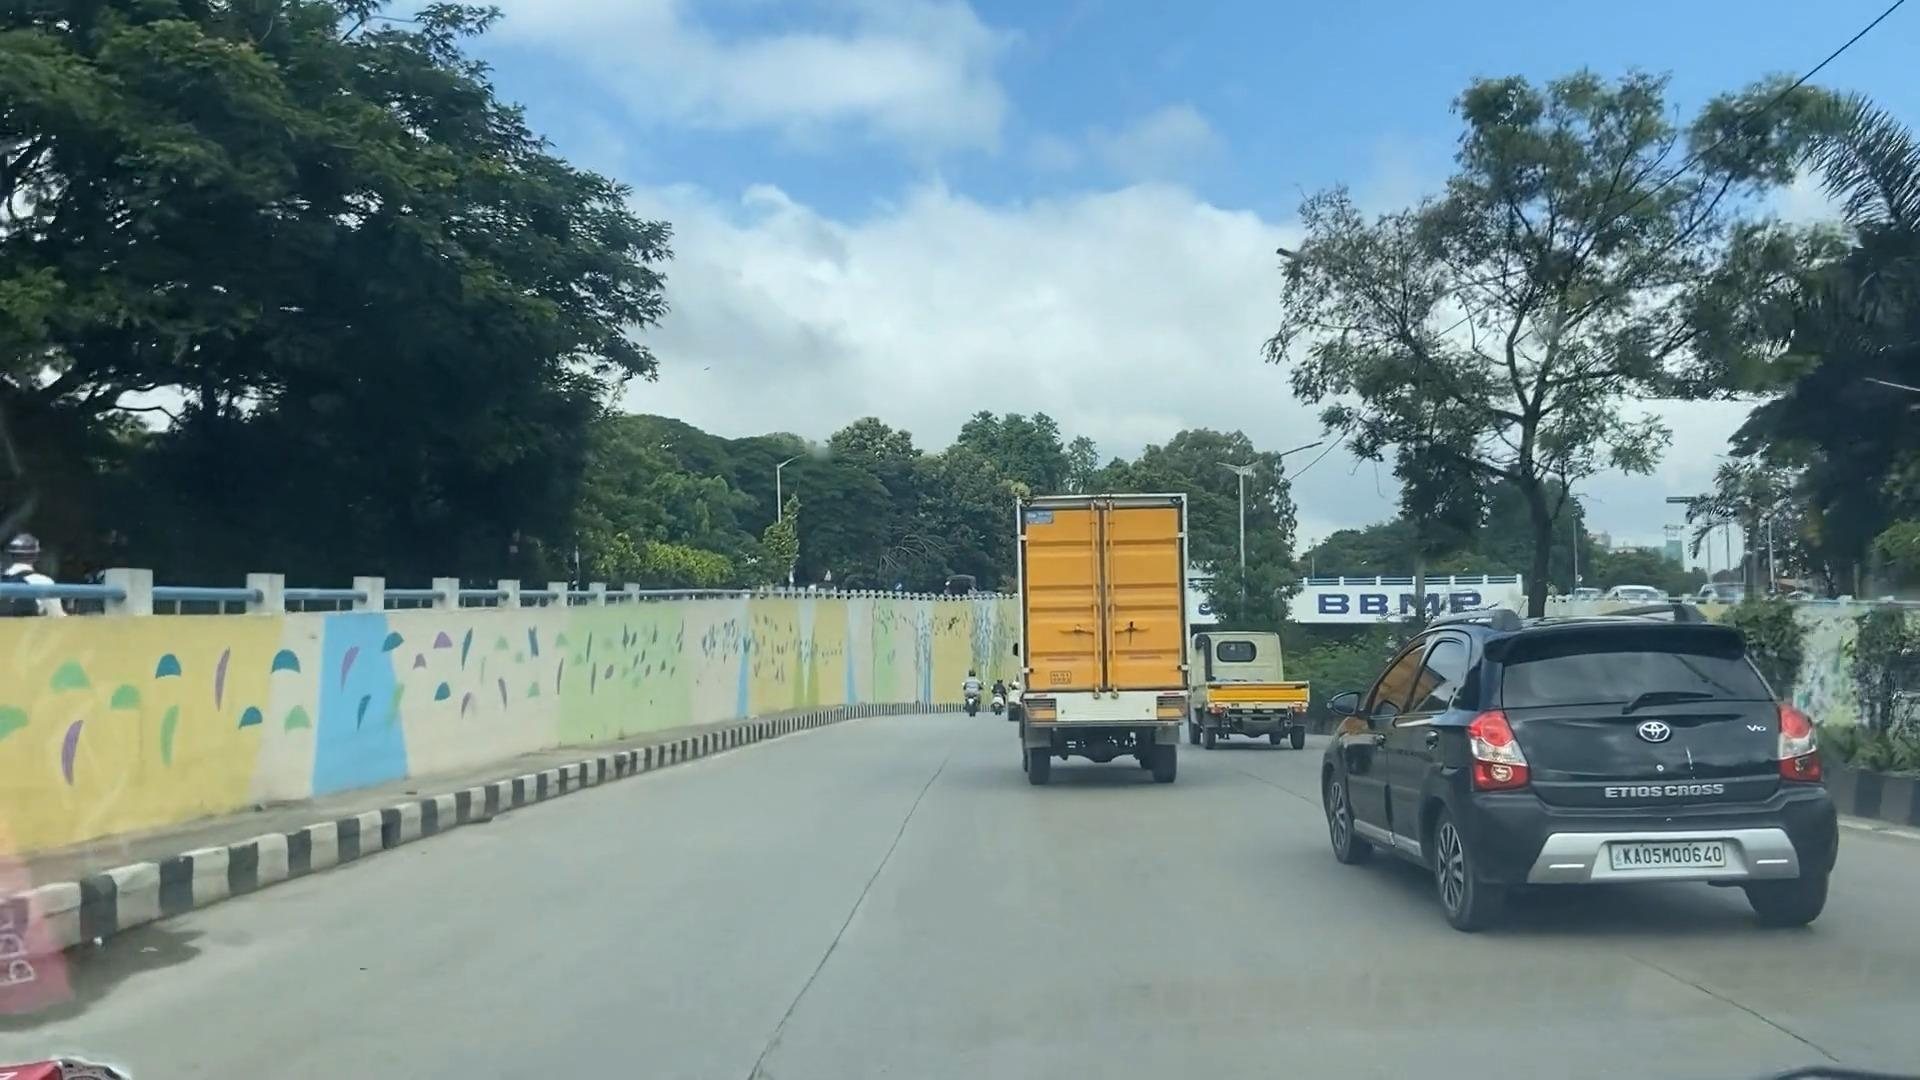HMV: (1014, 501, 1200, 786)
LMV: (1327, 630, 1832, 939)
